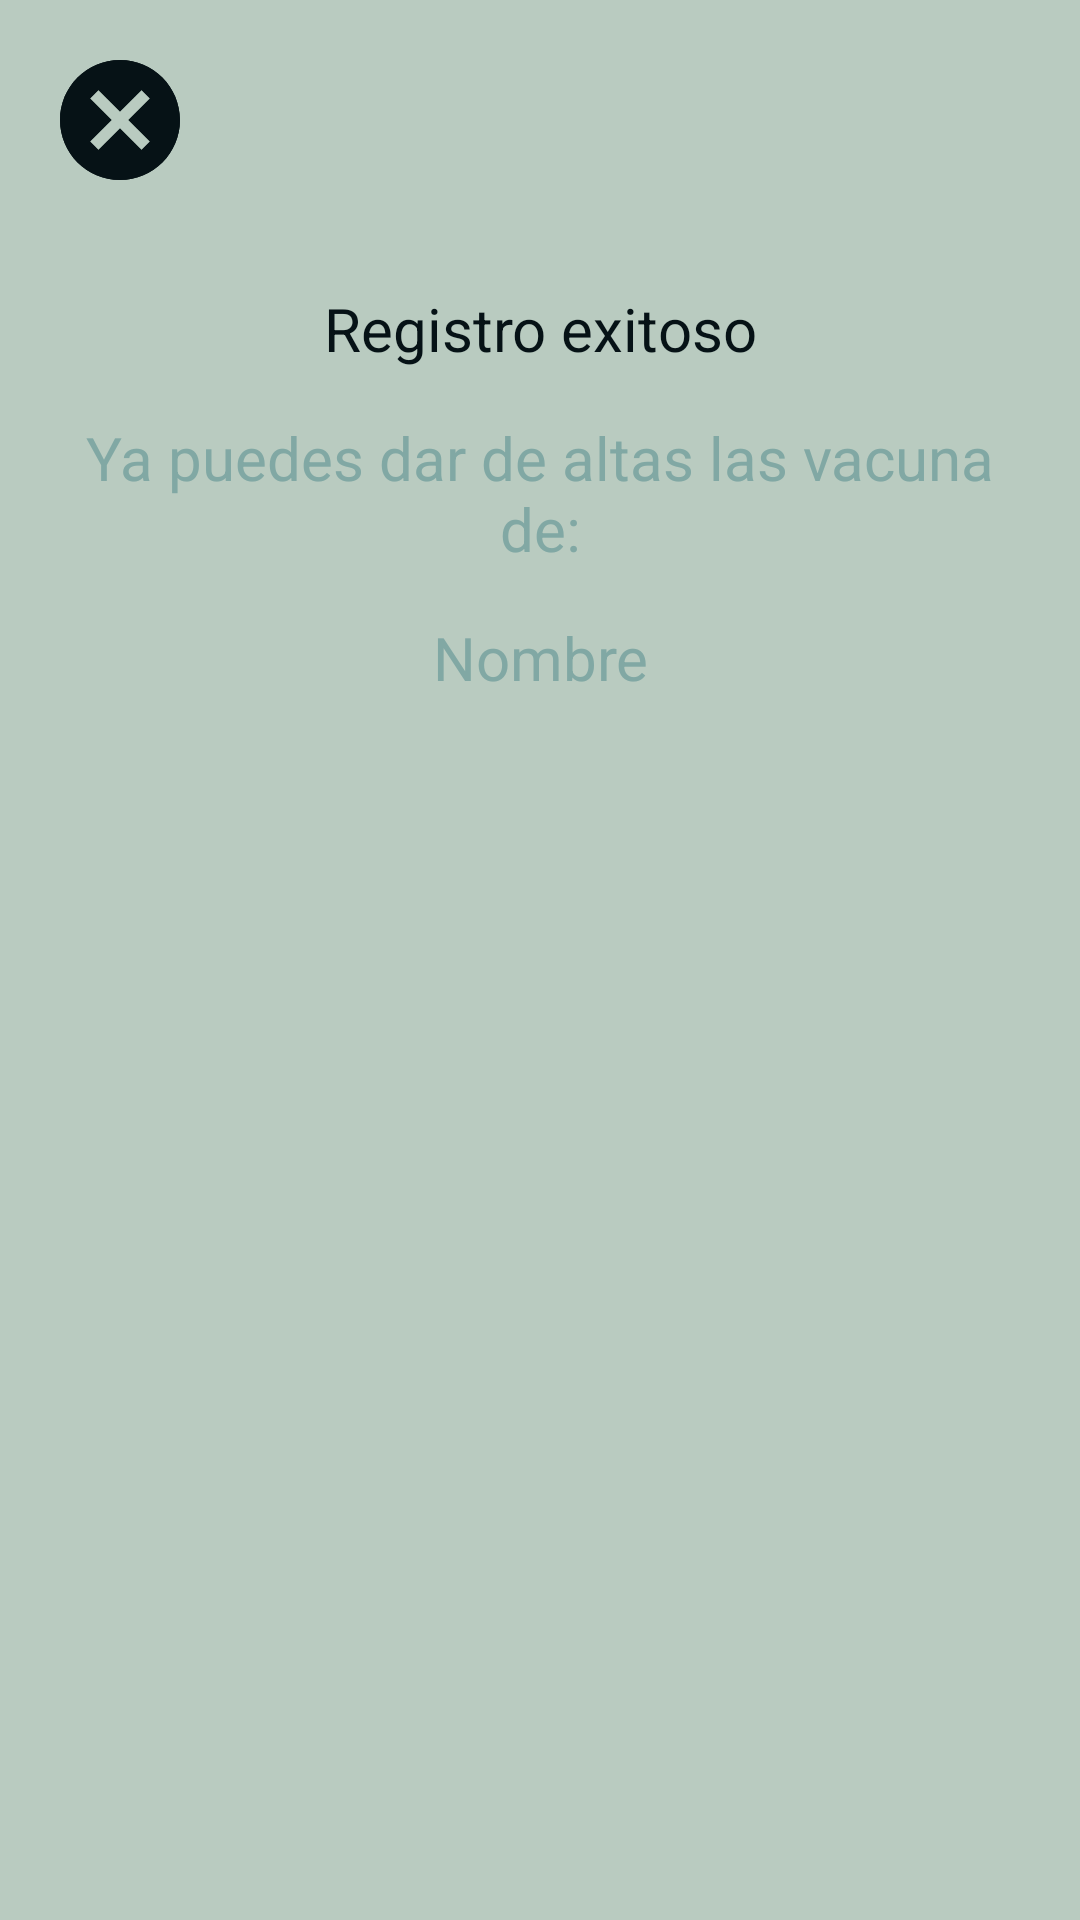

Icons on this 1080×1920 Android screen, each with its box as box(x1, y1, x2, y2):
cancel: box(60, 60, 180, 180)
